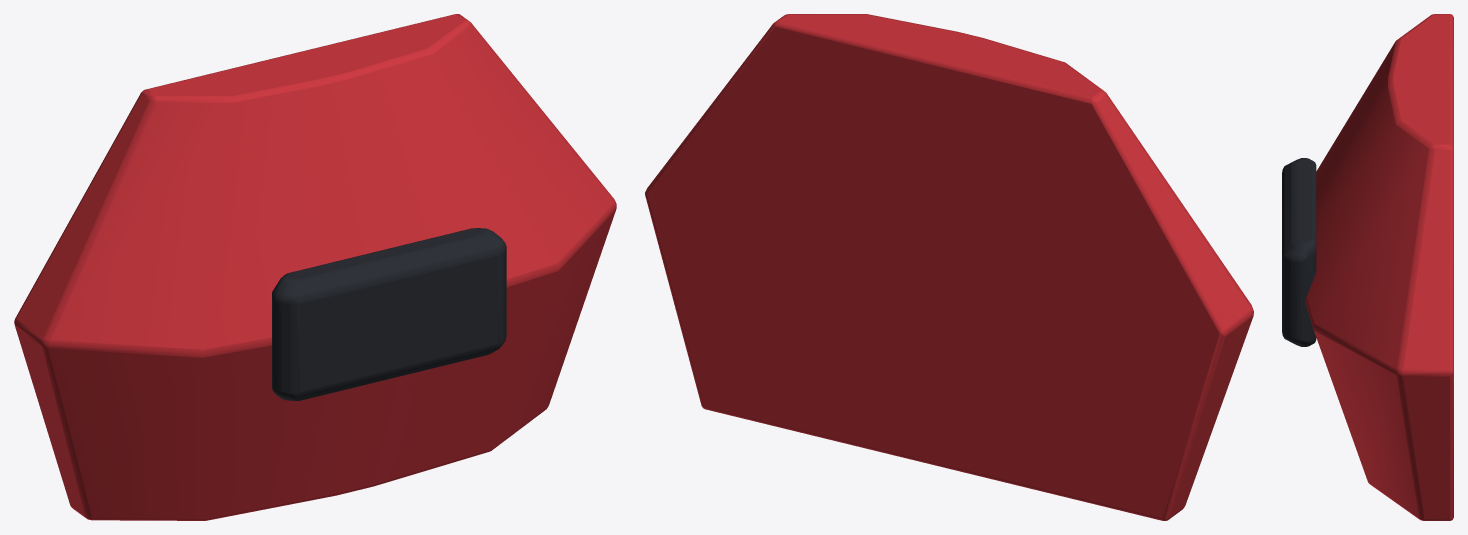
The model's file is HandBack_Set03_Overclock.fbx.
3 views of the same model, side by side, from view 1: azimuth 30°, elevation 25°; view 2: azimuth 150°, elevation 25°; view 3: azimuth 270°, elevation 25° (orthographic). The views are drawn at different scales.
Visible parts, largest first — view 1: HandBack_Set03_Overclock; view 2: HandBack_Set03_Overclock; view 3: HandBack_Set03_Overclock.
Part boxes in pixels (x1,y1,x2,y2): HandBack_Set03_Overclock: [14, 14, 616, 520]; HandBack_Set03_Overclock: [645, 14, 1253, 520]; HandBack_Set03_Overclock: [1282, 14, 1453, 520].
Bounding box in the file's own units: 0.299 × 0.2 × 0.09.
